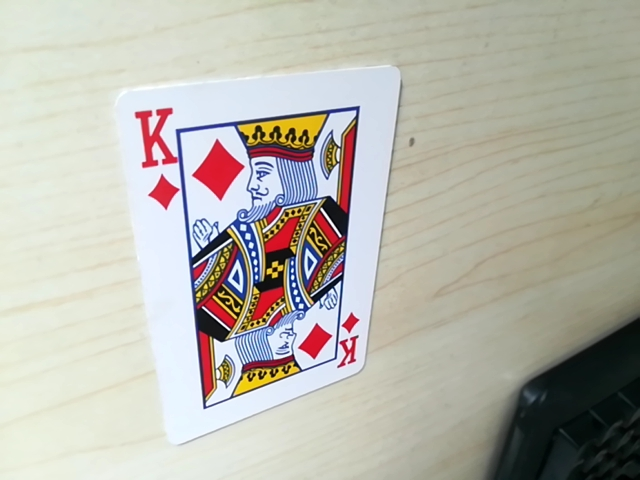fk k: (127, 97, 183, 219), (331, 308, 370, 377)
